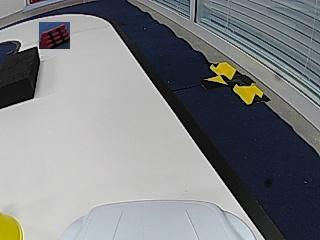block: (0, 46, 39, 109)
